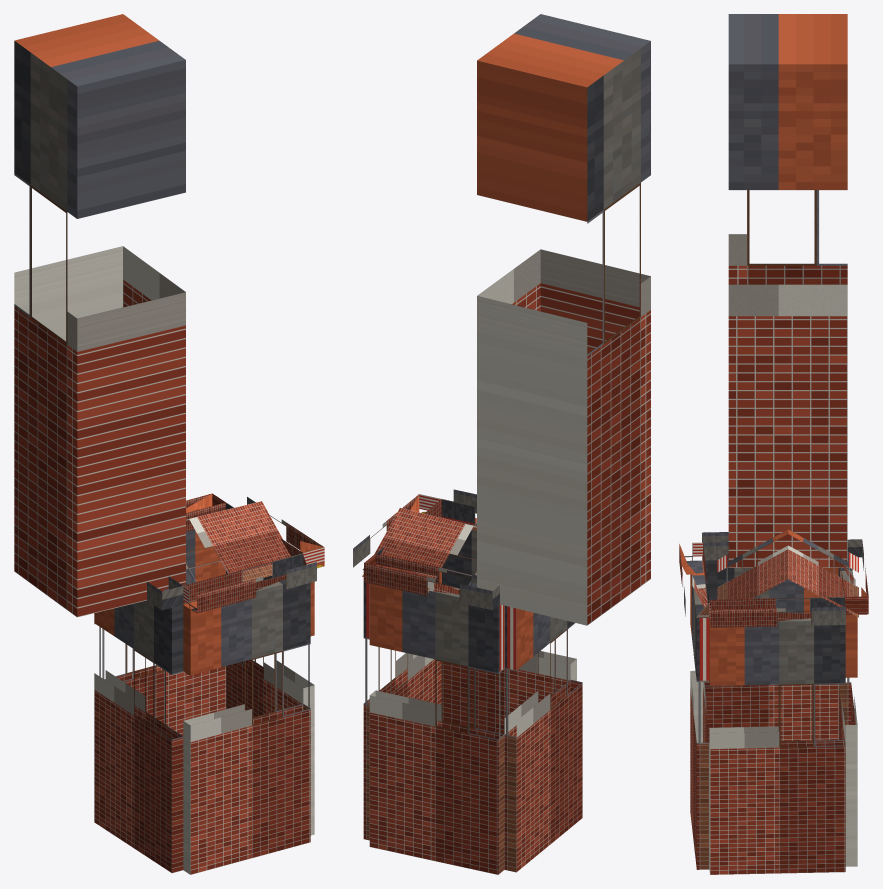
The picture shows the model from 3 angles, left to right: view 1: azimuth 30°, elevation 25°; view 2: azimuth 150°, elevation 25°; view 3: azimuth 270°, elevation 25°; orthographic projection. The views are drawn at different scales.
Parts seen in each view (by area): view 1: 1106964404__chimney_0_xb, 1106964404__wall_1_xb, 1106964404__wall_2_xb, 1106964404__wall_3_xb, 1106964404_roof_-1_xb, 1106964404__wall_0_xb, 1106964404__cornice_1, 1106964404__cornice_0, 1106964404__cornice_2, 1106964404__cornice_3; view 2: 1106964404__chimney_0_xb, 1106964404__wall_3_xb, 1106964404__wall_2_xb, 1106964404__wall_1_xb, 1106964404_roof_1_xb, 1106964404__wall_0_xb, 1106964404__cornice_3, 1106964404__cornice_0, 1106964404__cornice_1; view 3: 1106964404__chimney_0_xb, 1106964404__wall_0_xb, 1106964404__wall_2_xb, 1106964404__wall_1_xb, 1106964404__wall_3_xb, 1106964404__cornice_0, 1106964404_roof_-1_xb, 1106964404_roof_1_xb, 1106964404__cornice_1, 1106964404__cornice_3, 1106964404__cornice_2.
Part boxes in pixels (x1=…): 1106964404__chimney_0_xb: x1=14, y1=14, x2=185, y2=617; 1106964404__wall_1_xb: x1=183, y1=579, x2=310, y2=874; 1106964404__wall_2_xb: x1=94, y1=600, x2=183, y2=873; 1106964404__wall_3_xb: x1=99, y1=530, x2=225, y2=735; 1106964404_roof_-1_xb: x1=164, y1=501, x2=290, y2=590; 1106964404__wall_0_xb: x1=226, y1=571, x2=314, y2=835; 1106964404__cornice_1: x1=183, y1=553, x2=316, y2=613; 1106964404__cornice_0: x1=226, y1=497, x2=324, y2=568; 1106964404__cornice_2: x1=147, y1=576, x2=183, y2=610; 1106964404__cornice_3: x1=186, y1=493, x2=225, y2=531; 1106964404__chimney_0_xb: x1=477, y1=14, x2=650, y2=625; 1106964404__wall_3_xb: x1=369, y1=583, x2=504, y2=874; 1106964404__wall_2_xb: x1=504, y1=605, x2=582, y2=872; 1106964404__wall_1_xb: x1=442, y1=520, x2=576, y2=733; 1106964404_roof_1_xb: x1=362, y1=508, x2=476, y2=592; 1106964404__wall_0_xb: x1=363, y1=570, x2=441, y2=840; 1106964404__cornice_3: x1=364, y1=553, x2=499, y2=610; 1106964404__cornice_0: x1=353, y1=494, x2=441, y2=569; 1106964404__cornice_1: x1=442, y1=489, x2=476, y2=525; 1106964404__chimney_0_xb: x1=728, y1=14, x2=847, y2=567; 1106964404__wall_0_xb: x1=709, y1=618, x2=845, y2=874; 1106964404__wall_2_xb: x1=702, y1=556, x2=838, y2=741; 1106964404__wall_1_xb: x1=690, y1=560, x2=709, y2=869; 1106964404__wall_3_xb: x1=838, y1=567, x2=857, y2=866; 1106964404__cornice_0: x1=709, y1=597, x2=845, y2=627; 1106964404_roof_-1_xb: x1=717, y1=529, x2=788, y2=609; 1106964404_roof_1_xb: x1=788, y1=529, x2=858, y2=617; 1106964404__cornice_1: x1=679, y1=542, x2=709, y2=617; 1106964404__cornice_3: x1=839, y1=539, x2=868, y2=614; 1106964404__cornice_2: x1=702, y1=532, x2=728, y2=560.
Size of the model in its own units: 0.3283 by 1.05 by 0.2387.
Materials: 1 (1 with a texture image).
